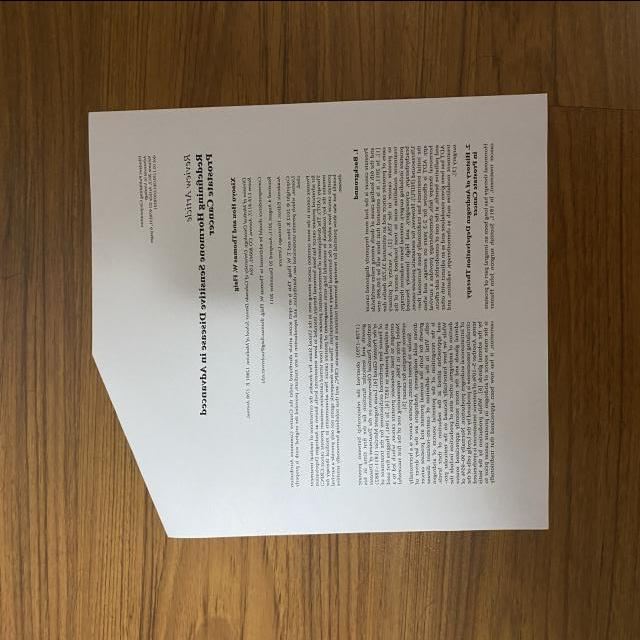kertas: (87, 93, 557, 538)
